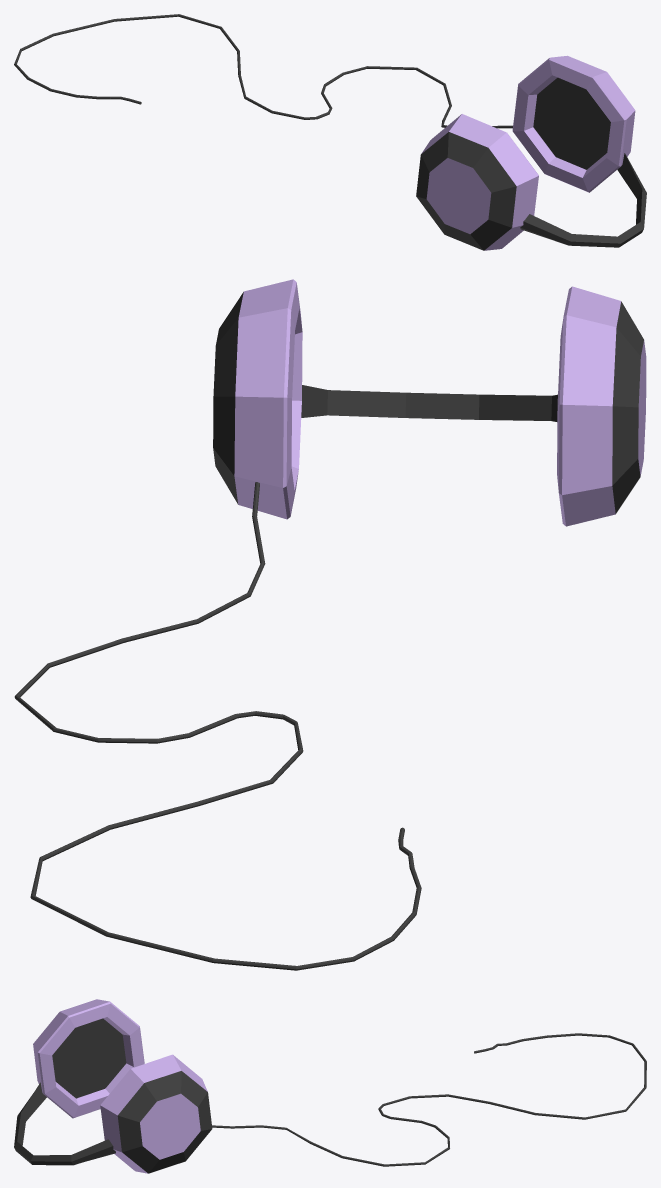
The model's file is Headphones_2.fbx.
3 renders of one model, top to bottom at view 1: azimuth 30°, elevation 25°; view 2: azimuth 150°, elevation 25°; view 3: azimuth 270°, elevation 25°, orthographic. The views are drawn at different scales.
Visible parts, largest first — view 1: Headphones_2; view 2: Headphones_2; view 3: Headphones_2.
Part boxes in pixels (x1=…): Headphones_2: x1=14, y1=14, x2=646, y2=250; Headphones_2: x1=14, y1=279, x2=646, y2=970; Headphones_2: x1=14, y1=999, x2=646, y2=1173.
Bounding box in the file's own units: 44.57 × 79.84 × 15.17.
